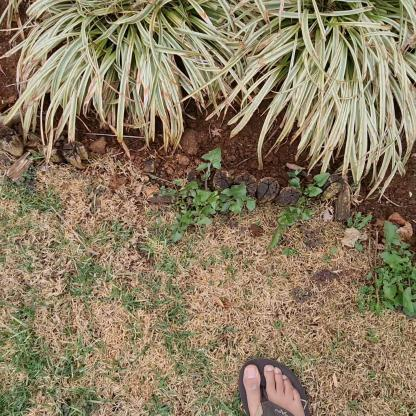Weeds: (158, 148, 255, 243), (359, 220, 415, 320), (269, 198, 316, 253), (286, 169, 330, 197), (345, 212, 372, 252)
